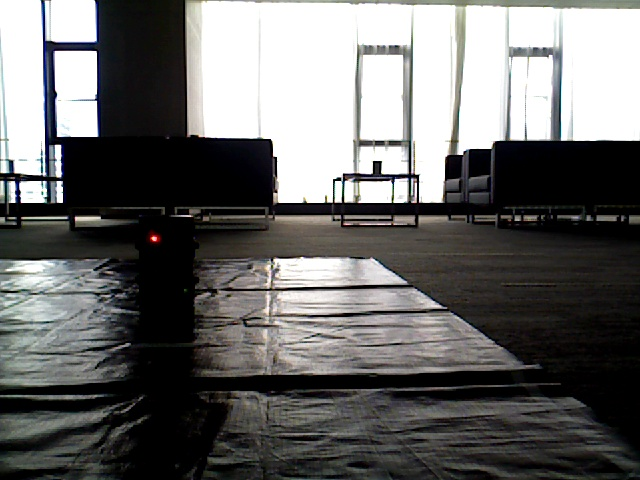red: (140, 215, 189, 315)
